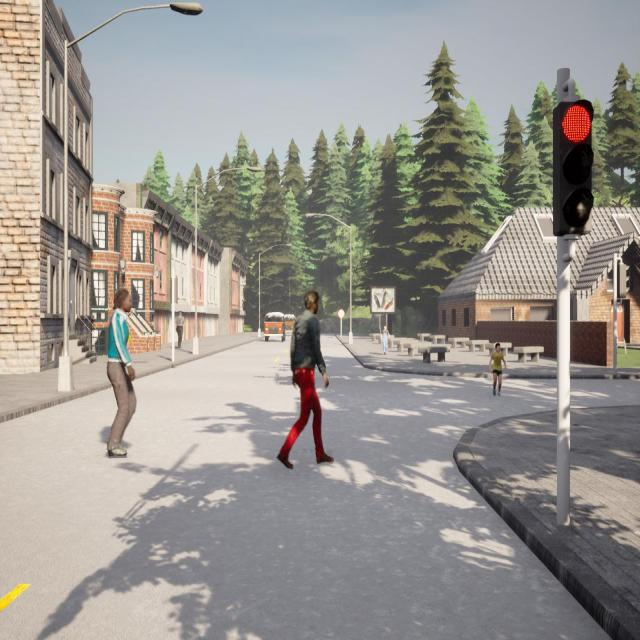Pedestrian: (277, 291, 333, 468), (107, 288, 136, 457), (489, 342, 507, 399), (175, 311, 186, 348), (380, 325, 391, 355)
Traffic_Signs: (338, 309, 344, 319)
Vehicle: (263, 313, 286, 342), (282, 312, 297, 335)
traffic_light: (553, 99, 593, 236), (617, 263, 630, 298), (171, 277, 178, 304)
